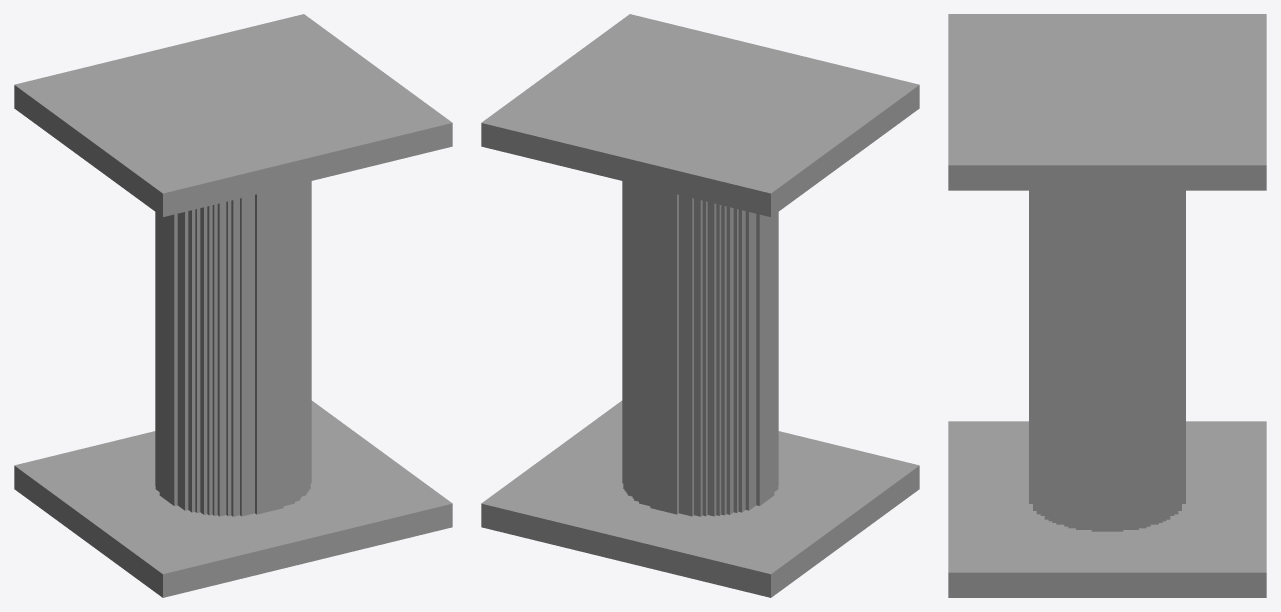
Rendered from pillar.glb.
The picture shows the model from 3 angles, left to right: view 1: azimuth 30°, elevation 25°; view 2: azimuth 150°, elevation 25°; view 3: azimuth 270°, elevation 25°; orthographic projection. The views are drawn at different scales.
Parts seen in each view (by area): view 1: Untitled.001; view 2: Untitled.001; view 3: Untitled.001.
Boxes of the visible parts, x1,y1,x2,y2 form: Untitled.001: (14, 14, 452, 597); Untitled.001: (481, 14, 919, 597); Untitled.001: (948, 14, 1266, 597).
Size of the model in its own units: 9 by 12 by 8.
Materials: 1 (1 with a texture image).
